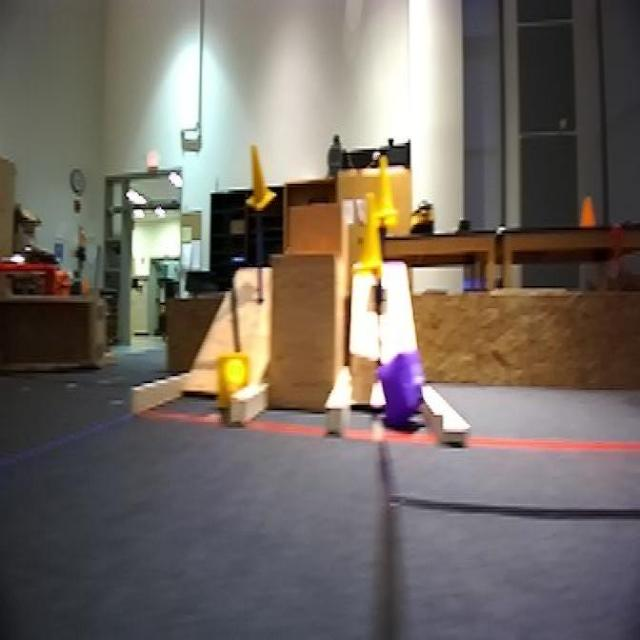frc_cone: (355, 199, 390, 276), (242, 140, 275, 216), (216, 354, 250, 410), (372, 155, 393, 221)
frc_cube: (372, 351, 422, 429)
